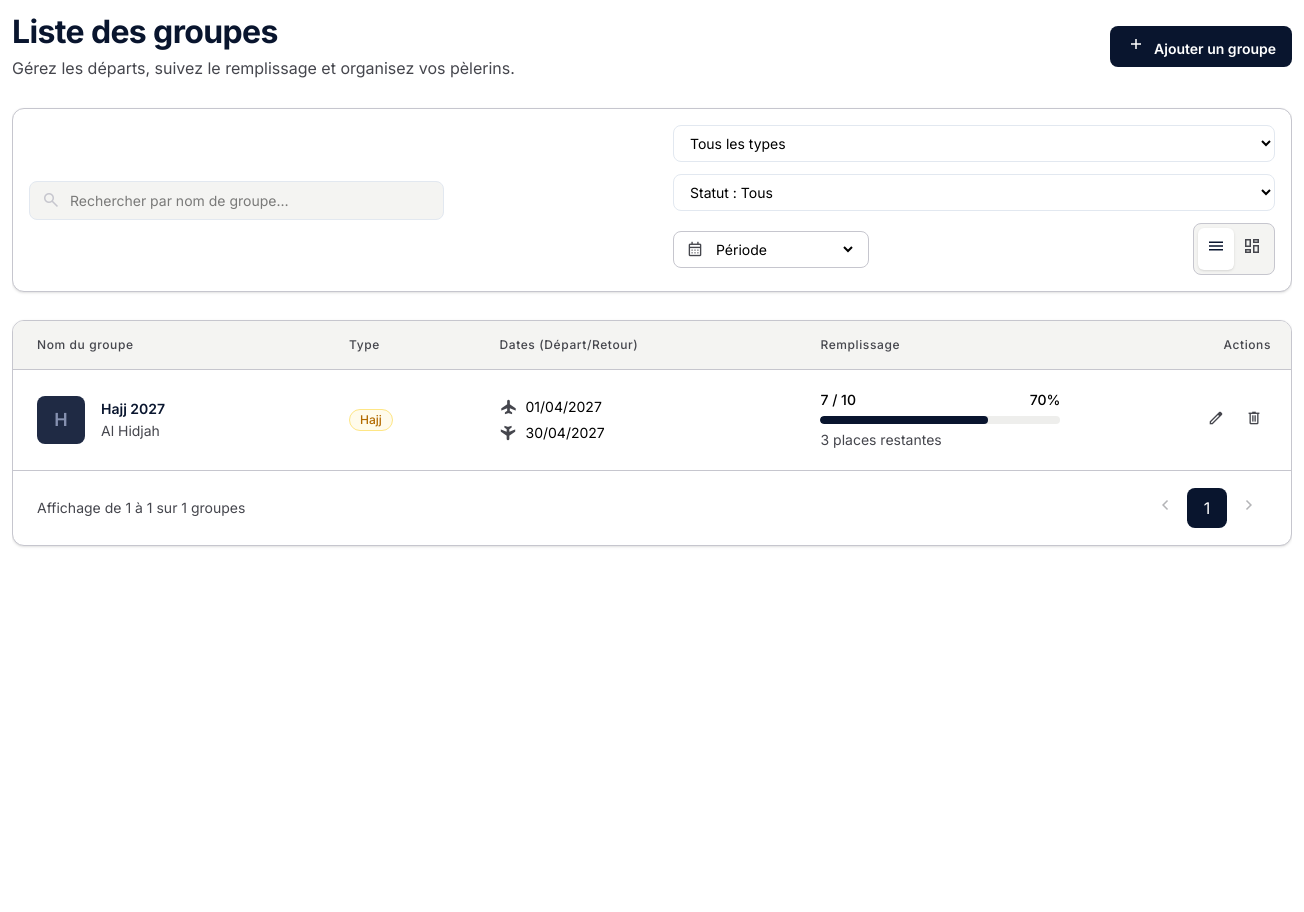
Groupes › bascule vers les cartes de groupes
Step 1. Click the button named "Affichage en cartes" → (1252,249), box [1234, 228, 1270, 270]
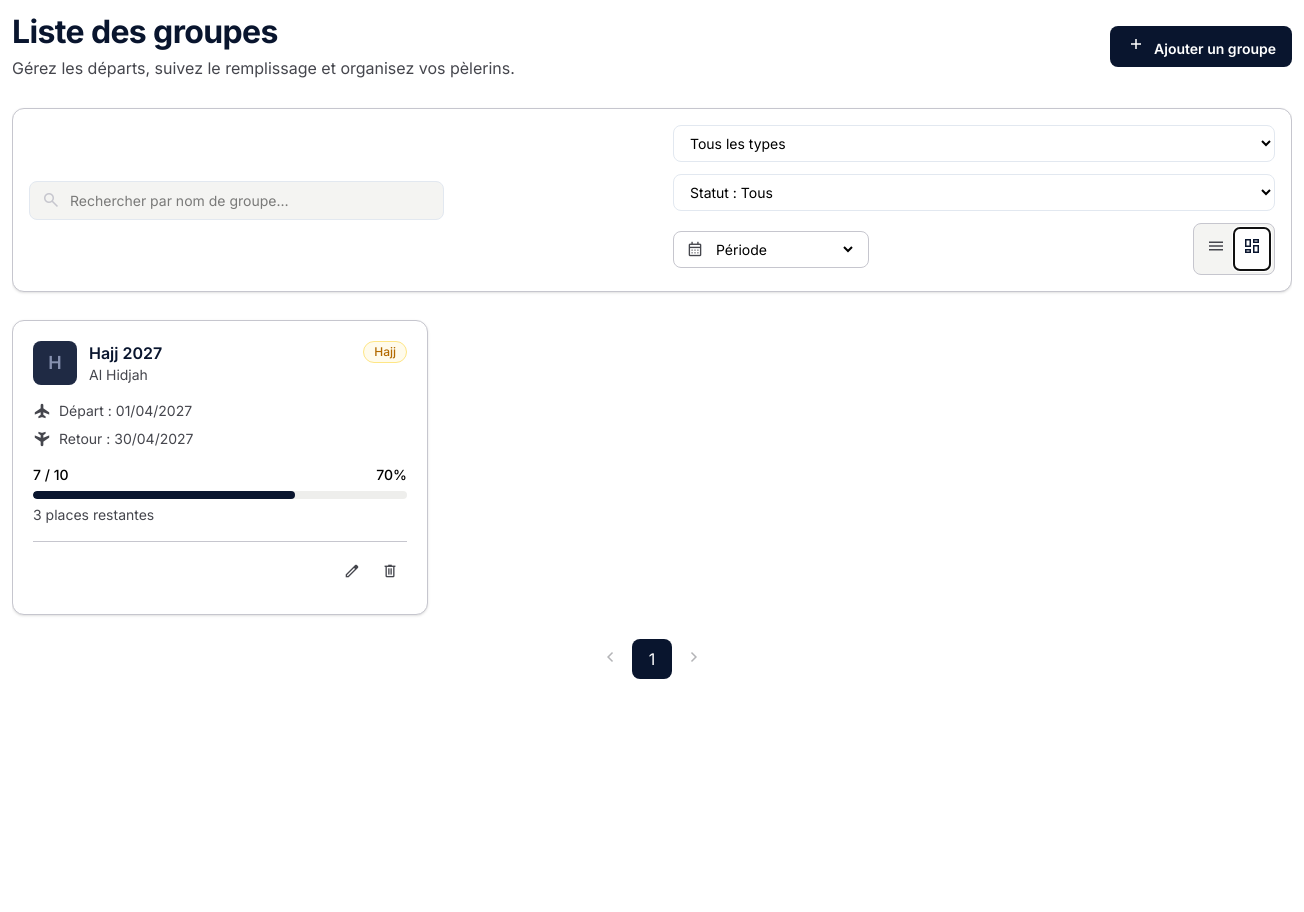
Expected: the text "7 / 10" is shown, [33, 465, 68, 485]
Result: the button named "Affichage en cartes" is pressed at [1234, 228, 1270, 270]
